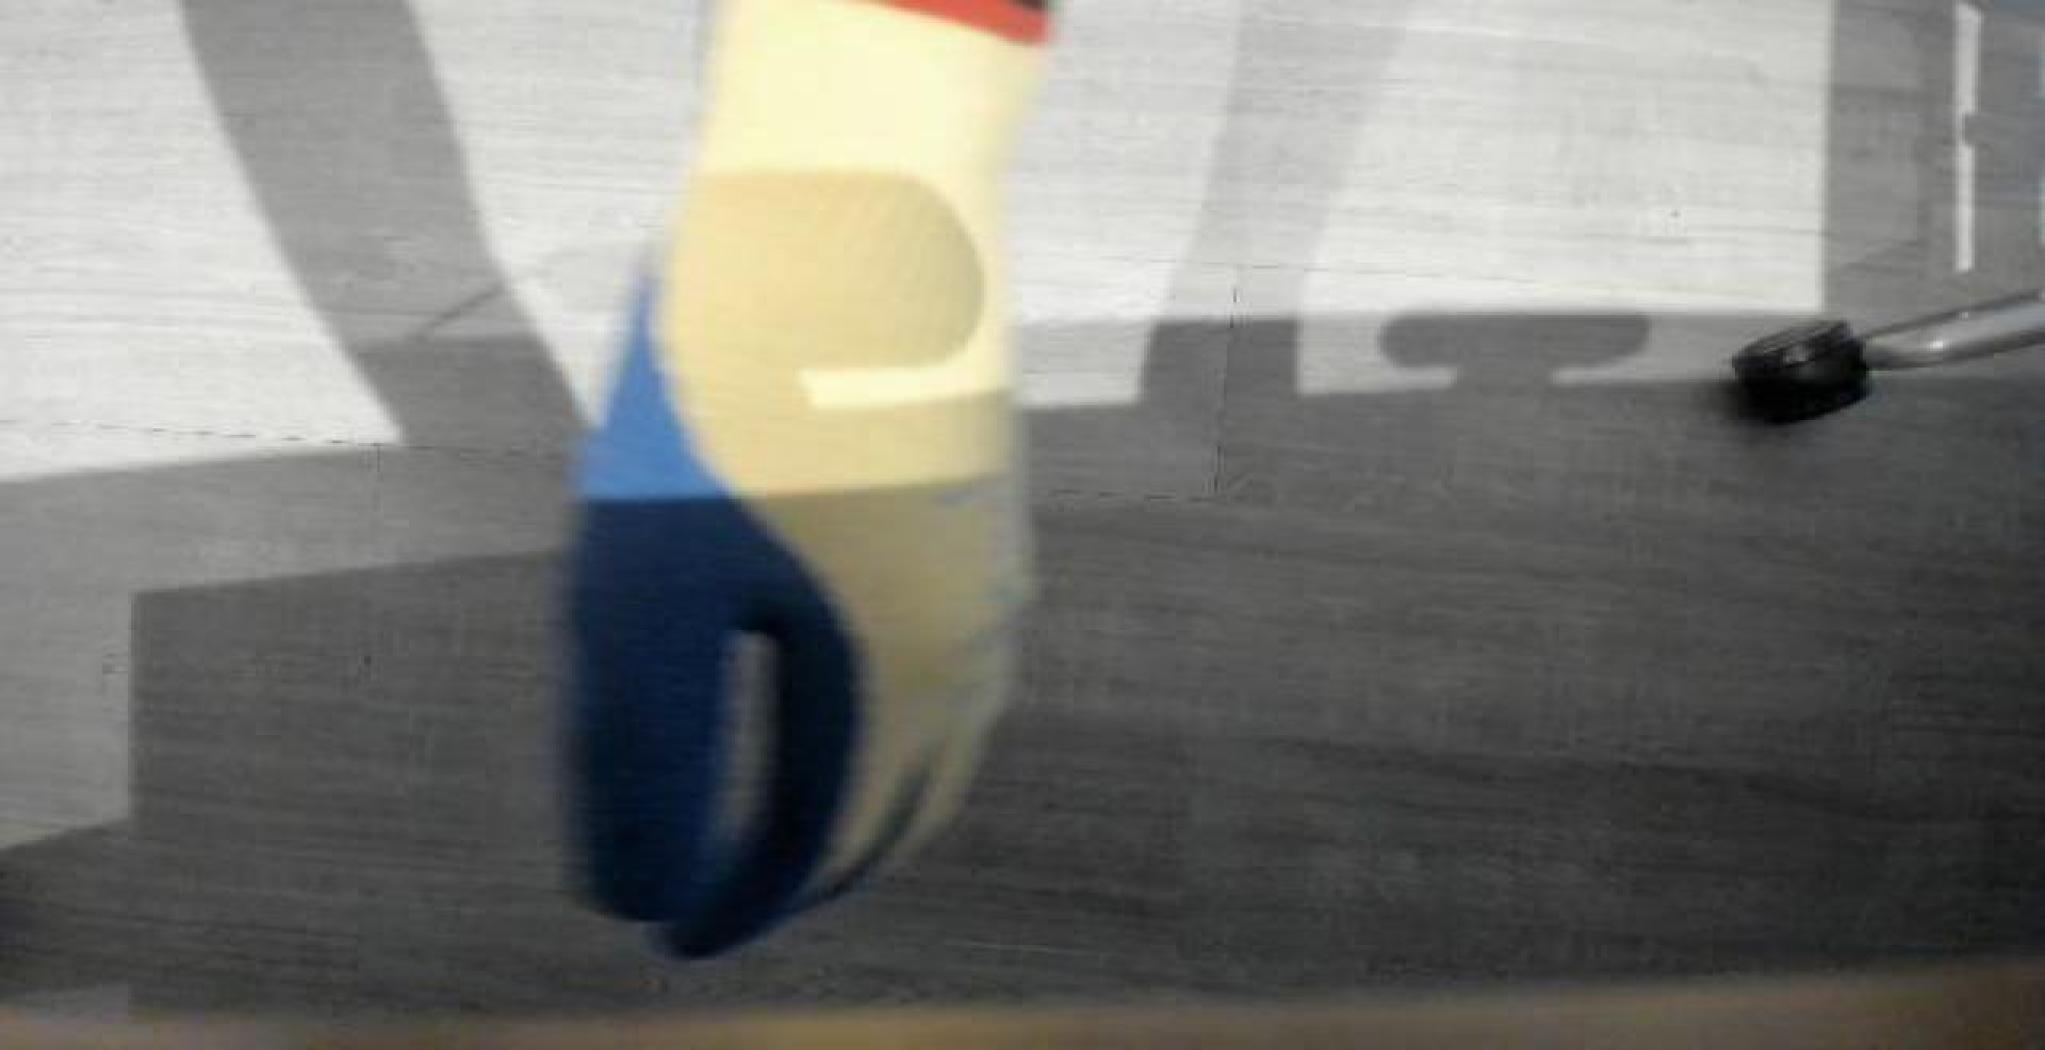gloved: (387, 0, 1118, 955)
